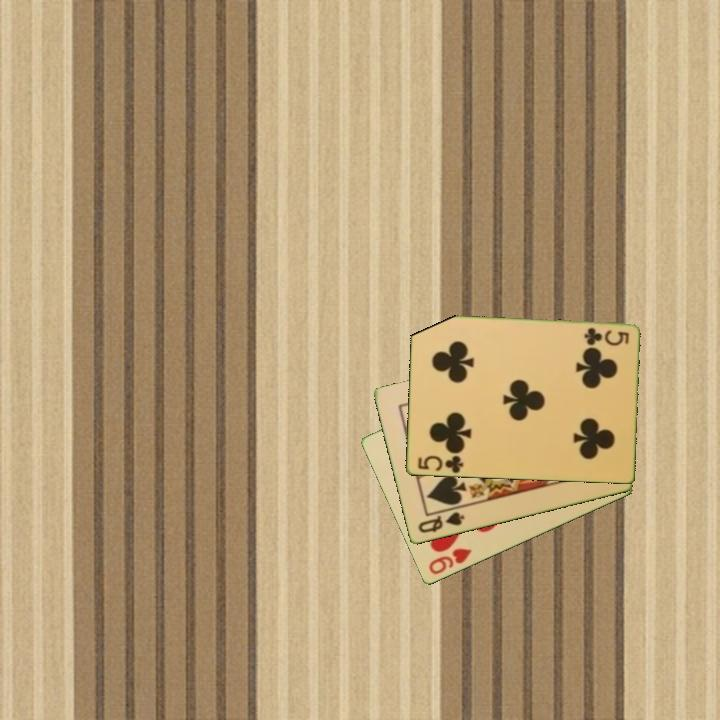5c: (414, 452, 466, 476), (580, 324, 631, 348)
9h: (425, 545, 475, 578)
Qs: (414, 508, 467, 536)
